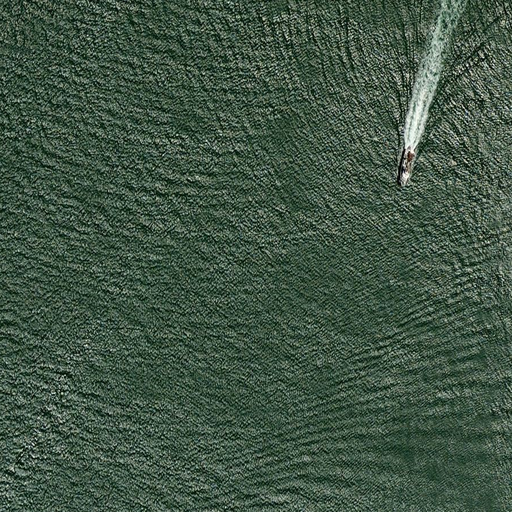ship: (396, 143, 418, 190)
